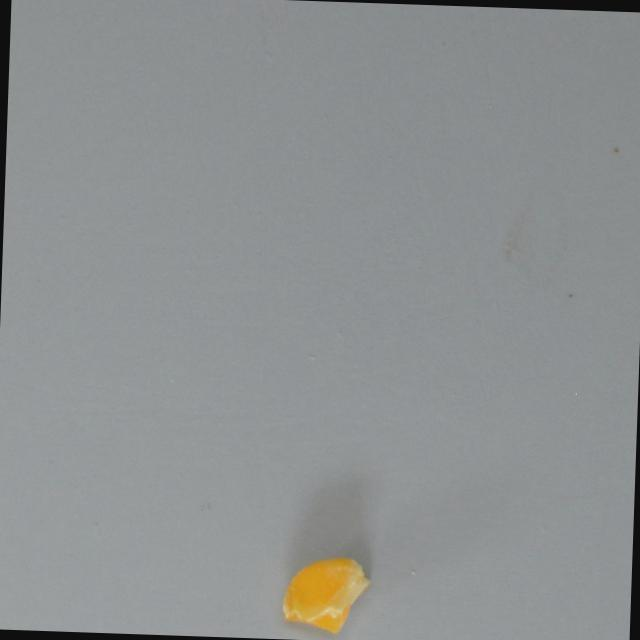pelicula: (276, 550, 369, 638)
